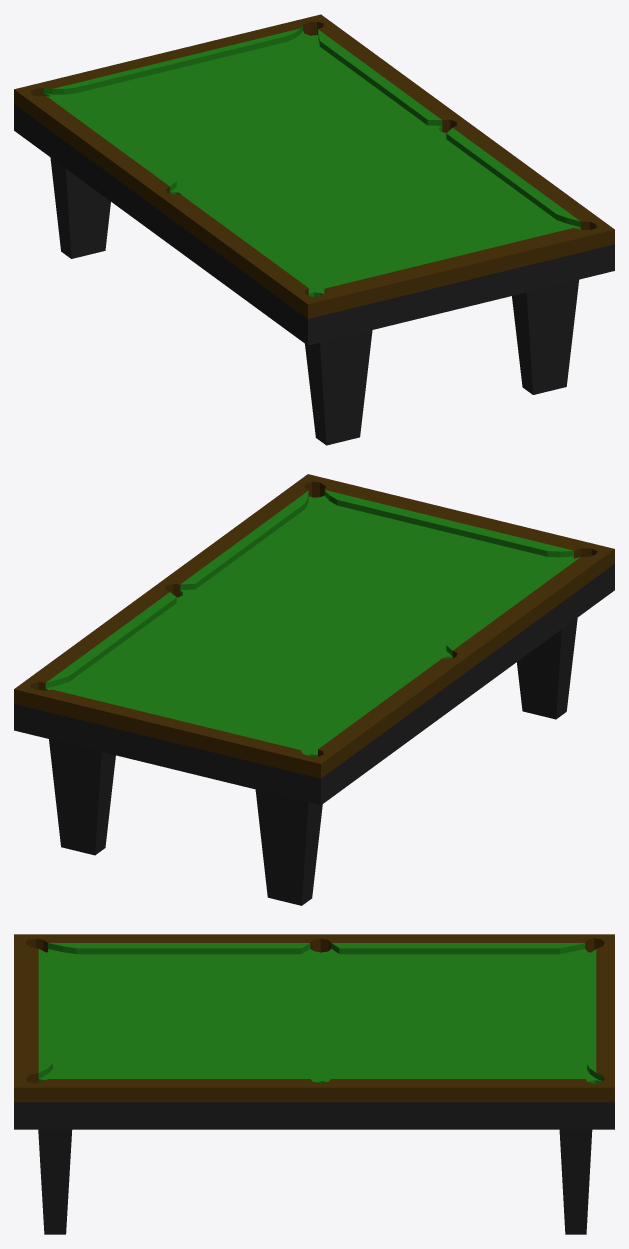
The model's file is PoolTable.fbx.
3 views of the same model, one above another, from view 1: azimuth 30°, elevation 25°; view 2: azimuth 150°, elevation 25°; view 3: azimuth 270°, elevation 25° (orthographic). The views are drawn at different scales.
Parts seen in each view (by area): view 1: Pool table; view 2: Pool table; view 3: Pool table.
Part boxes in pixels (<box>): Pool table: <box>14,14,614,445</box>; Pool table: <box>14,474,614,905</box>; Pool table: <box>14,934,614,1234</box>.
Size of the model in its own units: 790 by 394 by 1310.
